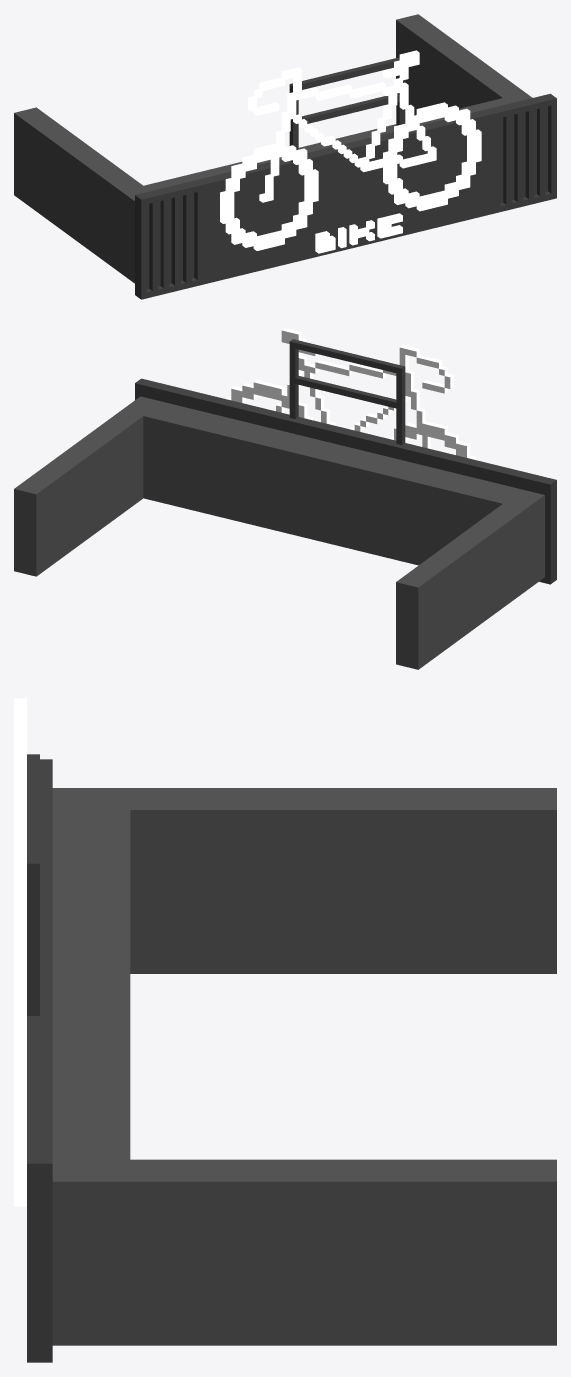
The model's file is bikeShop.glb.
The picture shows the model from 3 angles, top to bottom: view 1: azimuth 30°, elevation 25°; view 2: azimuth 150°, elevation 25°; view 3: azimuth 270°, elevation 25°; orthographic projection. The views are drawn at different scales.
Visible parts, largest first — view 1: ObjObject; view 2: ObjObject; view 3: ObjObject.
Part boxes in pixels (x1,y1,x2,y2): ObjObject: [14, 14, 556, 299]; ObjObject: [14, 328, 556, 669]; ObjObject: [14, 698, 556, 1362].
Size of the model in its own units: 7.4 by 3.3 by 4.2.
2 materials, 1 textured.
